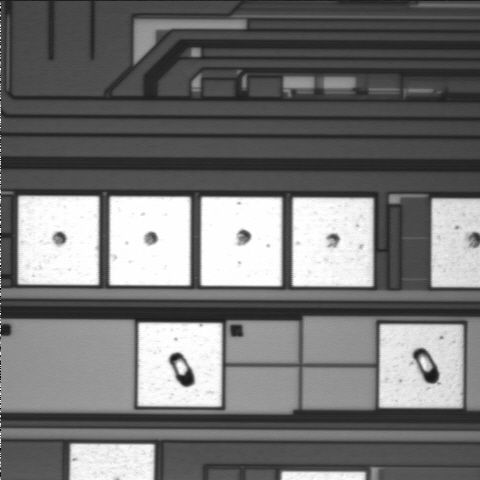pad: (109, 196, 191, 286), (18, 196, 99, 285), (201, 197, 282, 286), (292, 198, 373, 287), (138, 323, 222, 407), (379, 324, 463, 408)
